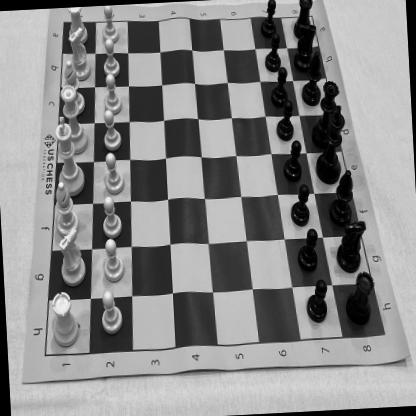bishop: (324, 168, 354, 226), (52, 180, 80, 236), (63, 58, 86, 115), (300, 50, 322, 104)
king: (53, 114, 85, 198), (314, 104, 348, 183)
knight: (56, 226, 87, 288), (334, 218, 368, 274), (66, 27, 92, 82), (292, 19, 318, 72)
pawn: (98, 289, 124, 335), (304, 275, 328, 324), (295, 228, 320, 272), (101, 238, 124, 283), (289, 182, 311, 226), (100, 194, 122, 238), (281, 139, 303, 181), (101, 108, 122, 150), (104, 151, 125, 193), (274, 100, 294, 142), (100, 4, 121, 44), (262, 32, 282, 72), (102, 73, 121, 115), (259, 0, 279, 39), (101, 38, 120, 78), (270, 66, 288, 107)
queen: (58, 84, 88, 156), (310, 79, 340, 147)
rook: (48, 289, 80, 347), (344, 270, 376, 326), (291, 0, 315, 42), (66, 6, 90, 46)
